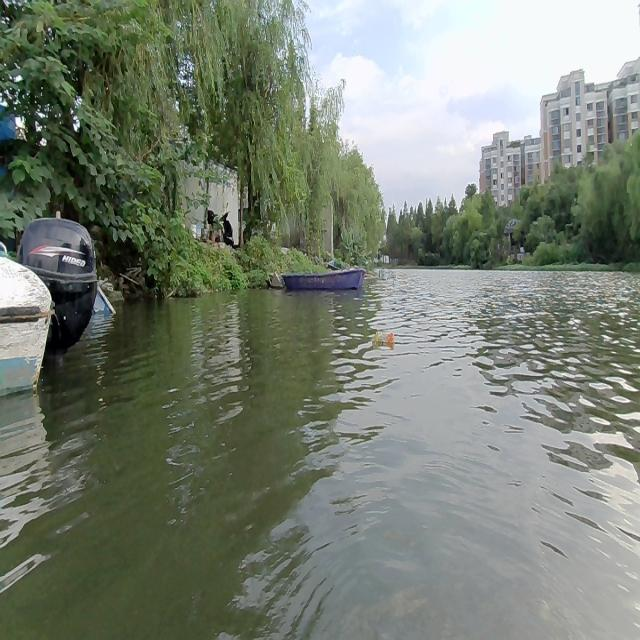bottle: (368, 326, 396, 349)
